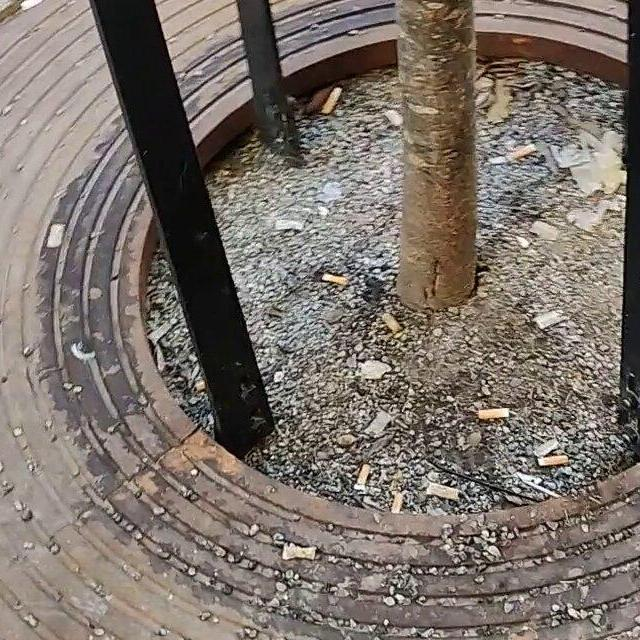Cigarette Butt: (534, 451, 568, 471), (324, 82, 342, 116), (505, 143, 535, 163), (350, 466, 372, 493), (477, 408, 512, 423), (323, 269, 350, 285), (388, 491, 404, 513)
